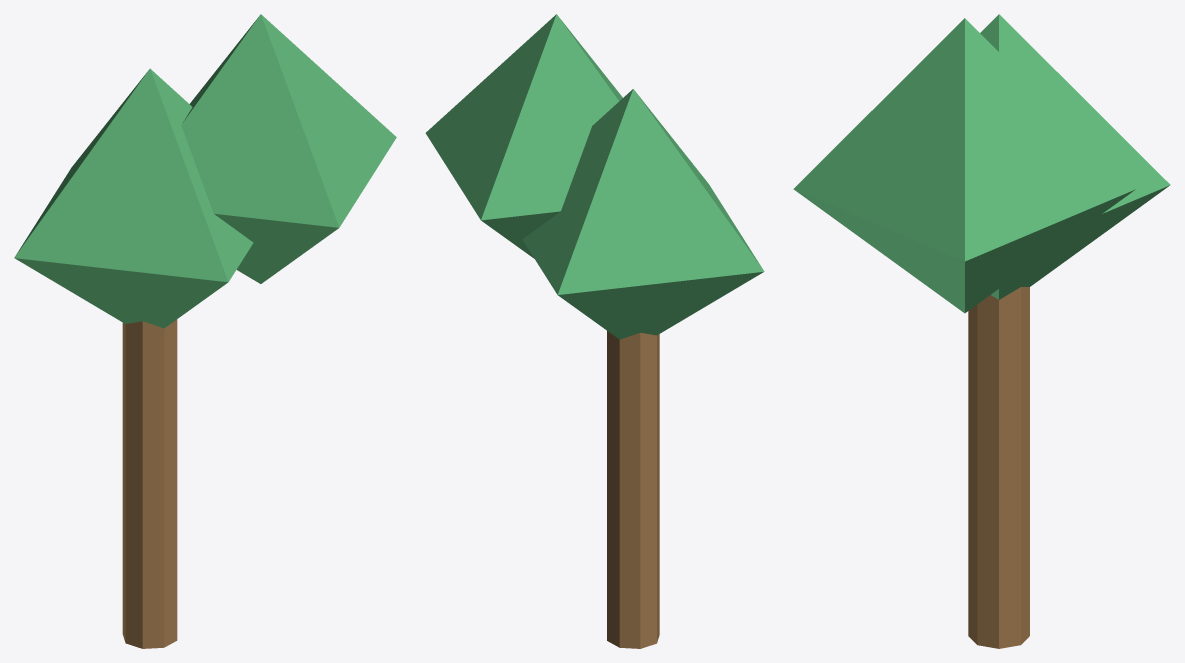
Rendered from tree-parts.gltf.
3 views of the same model, side by side, from view 1: azimuth 30°, elevation 25°; view 2: azimuth 150°, elevation 25°; view 3: azimuth 270°, elevation 25° (orthographic). The views are drawn at different scales.
Parts seen in each view (by area): view 1: leaf, leaf2, trunk; view 2: leaf, leaf2, trunk; view 3: leaf2, trunk, leaf.
Part boxes in pixels (box(x1,y1,x2,y2)): leaf: box(14, 68, 253, 328); leaf2: box(181, 14, 396, 283); trunk: box(122, 319, 177, 648); leaf: box(522, 89, 764, 339); leaf2: box(425, 14, 622, 258); trunk: box(607, 331, 659, 648); leaf2: box(793, 18, 1135, 313); trunk: box(968, 287, 1029, 648); leaf: box(980, 14, 1170, 299).
Bounding box in the file's own units: 2.7 × 4.3 × 2.2.
